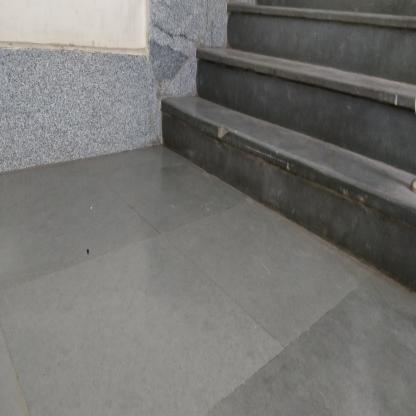stairs: (235, 17, 398, 287)
